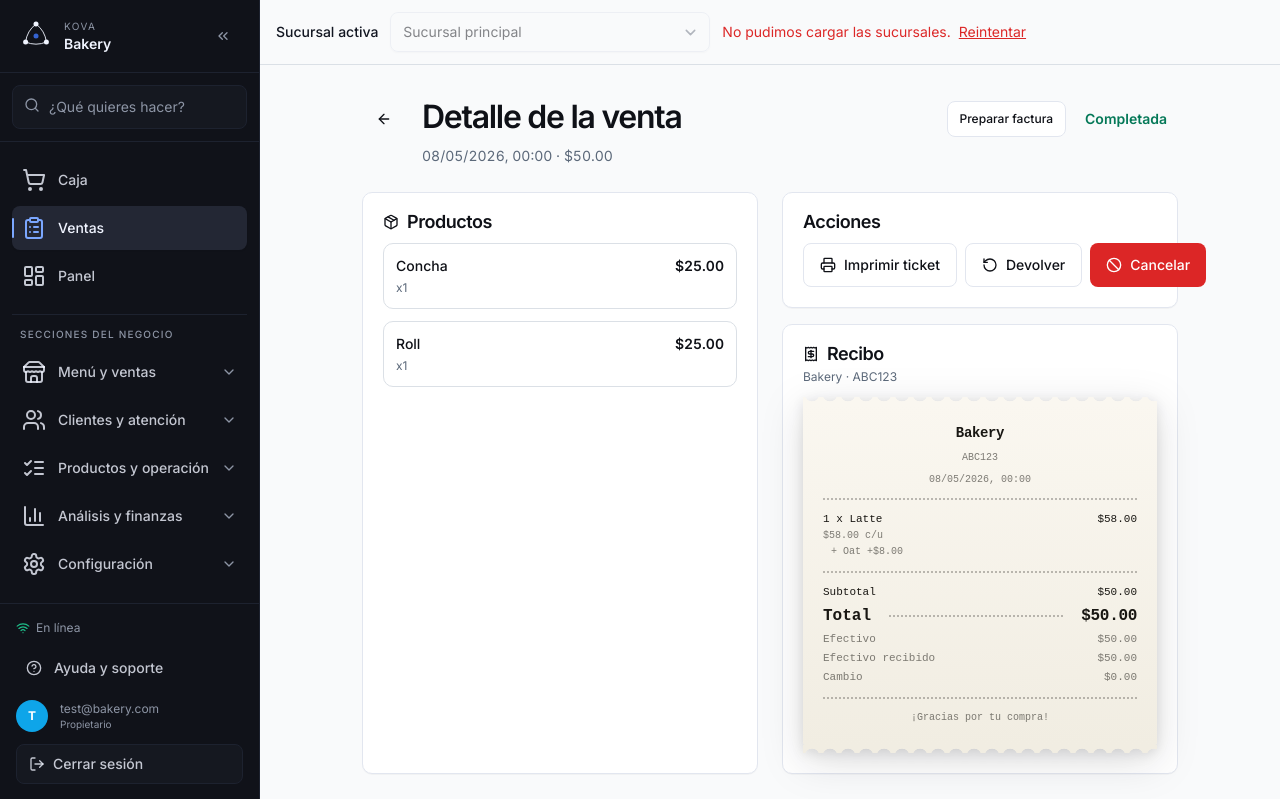
OrderDetail › submits a void after confirmation
This screenshot has width=1280, height=799.
Click the button "Cancelar" at [1148, 265], box top-left (1090, 243), bottom-right (1206, 287)
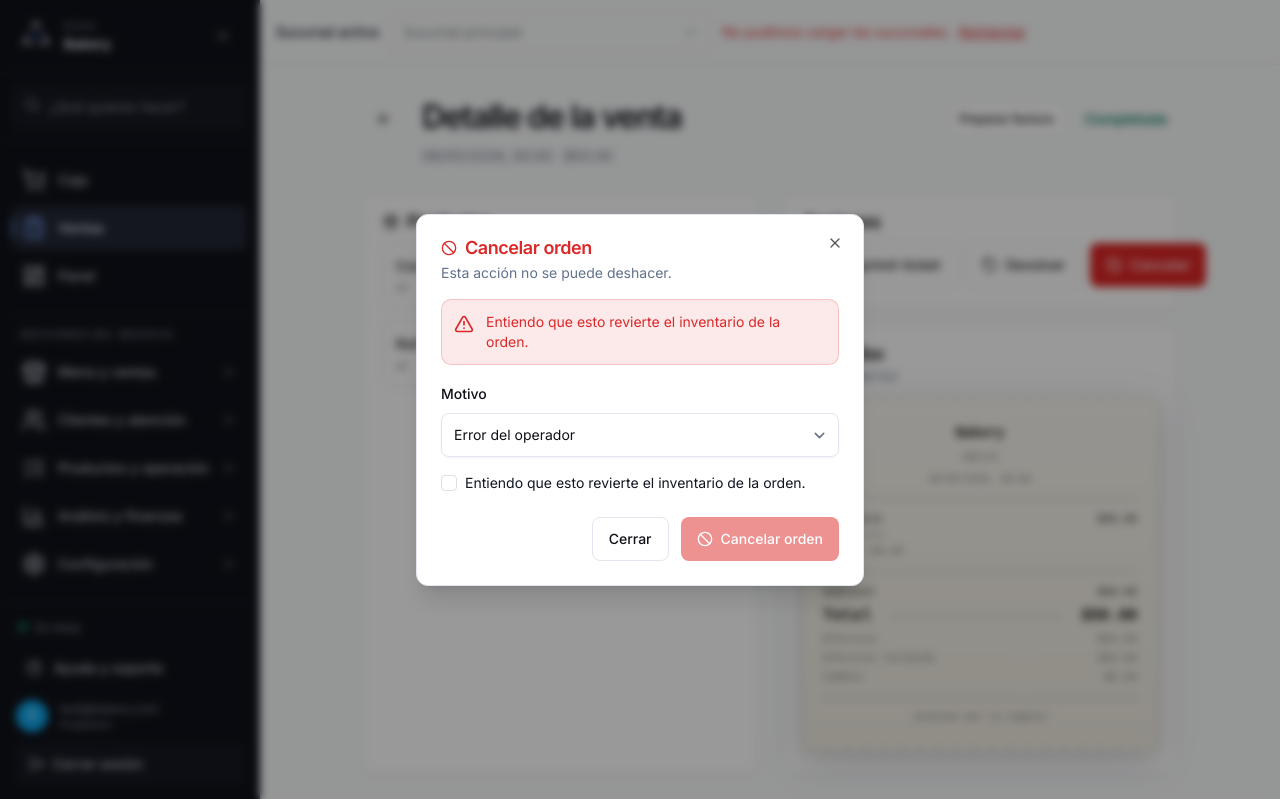
Click the checkbox labelled "Entiendo que esto revierte el inventario de la orden." at [449, 483], box top-left (441, 475), bottom-right (457, 491)
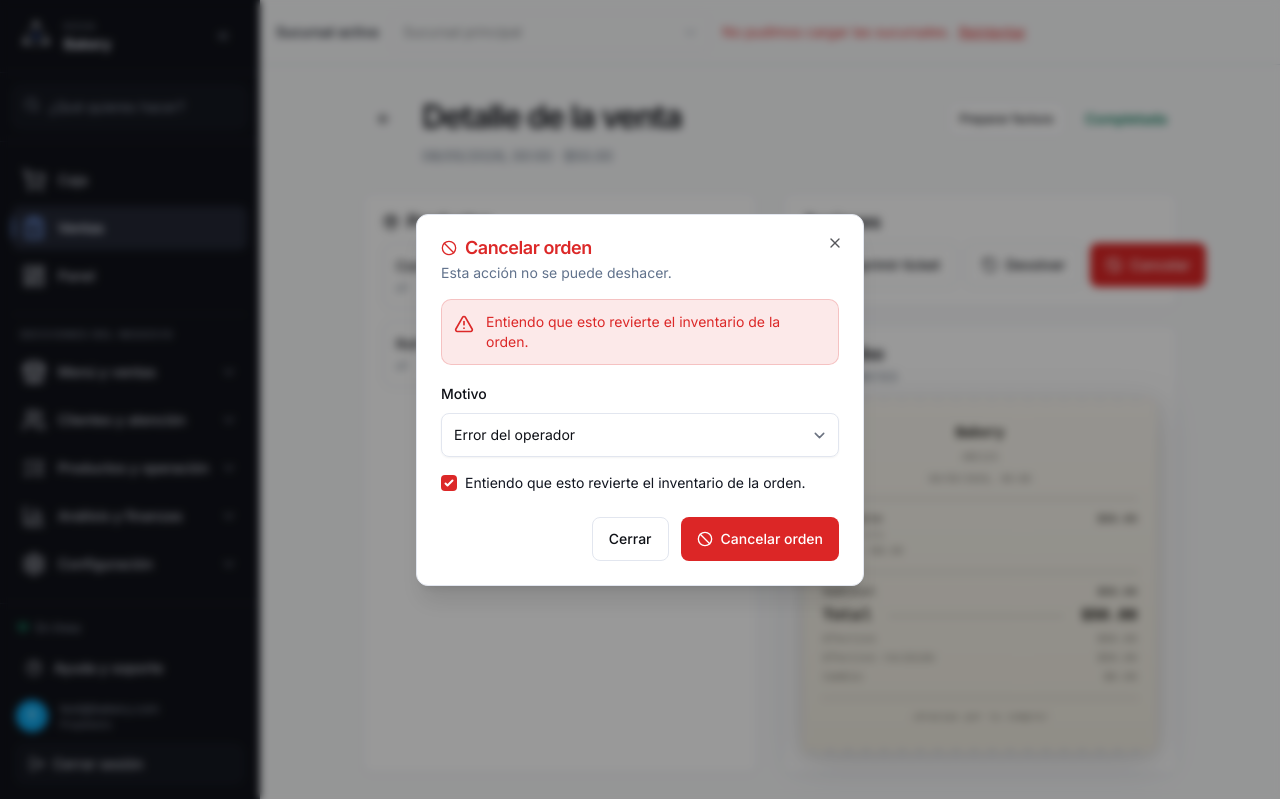
Click the button "Cancelar orden" at [760, 539], box top-left (680, 517), bottom-right (839, 561)
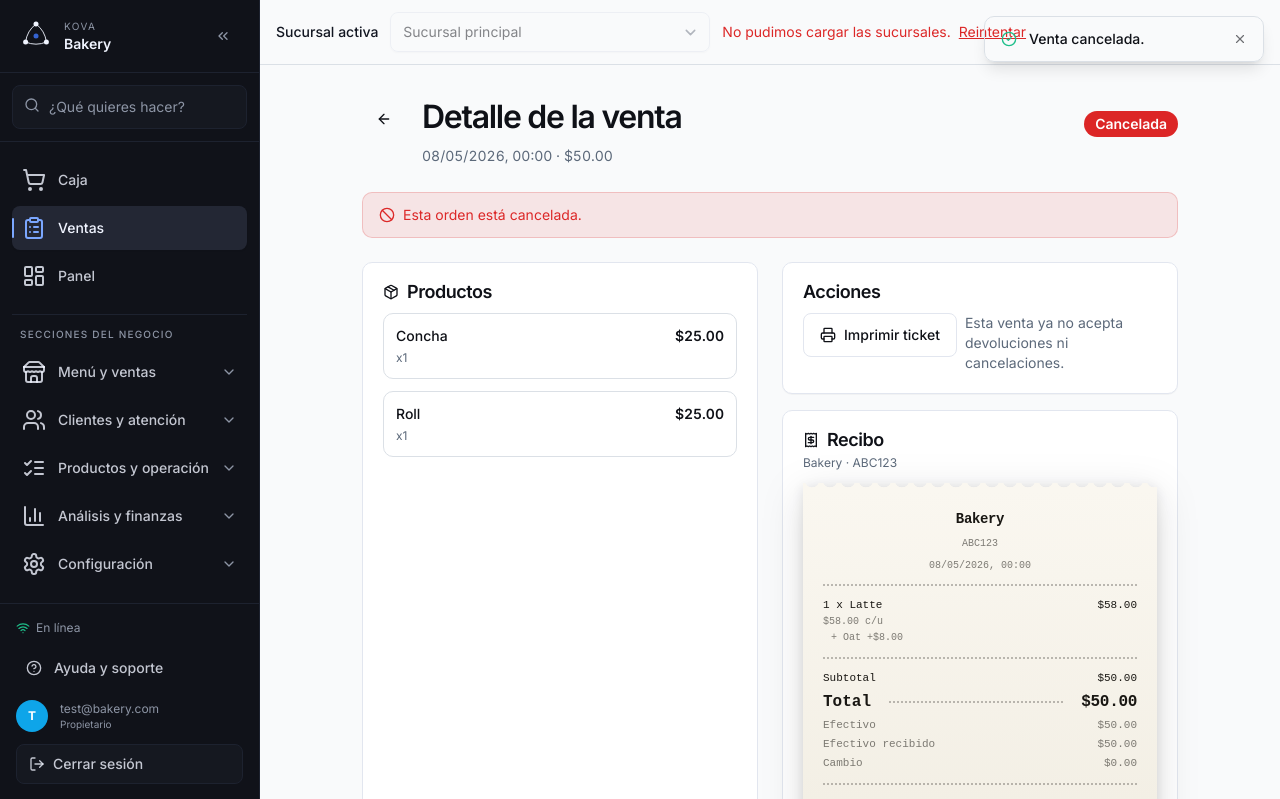
Now the text "Venta cancelada." is shown, box top-left (1029, 30), bottom-right (1145, 47)
